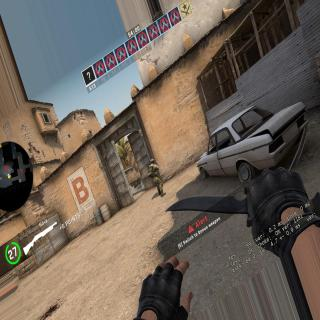CT-Body: (147, 157, 163, 196)
CT-Head: (150, 159, 154, 163)
